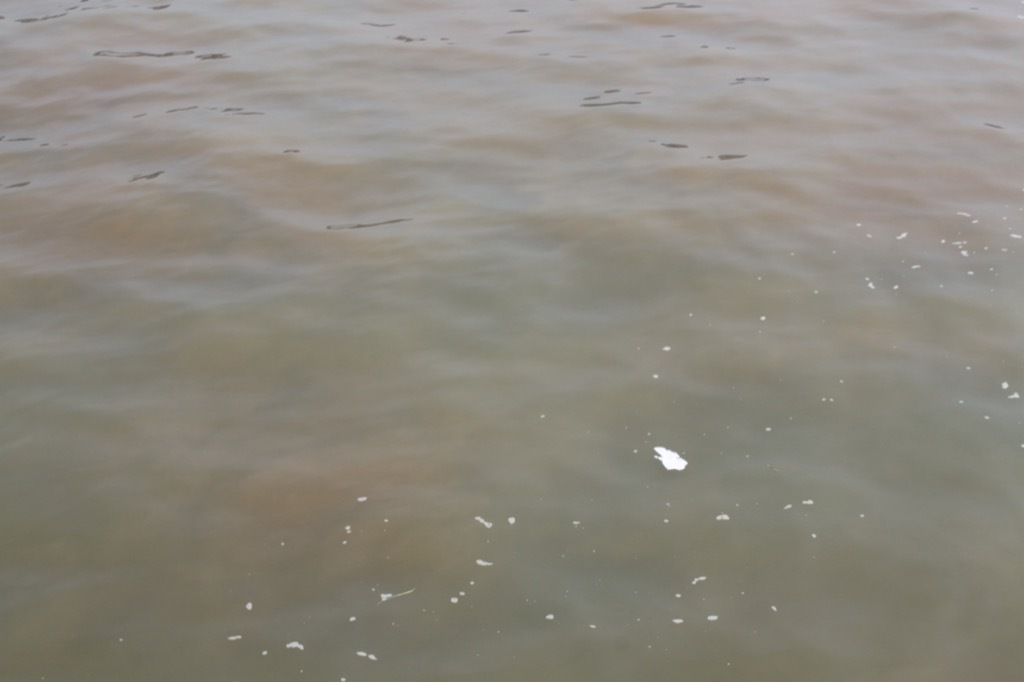plastic: (647, 439, 695, 474)
